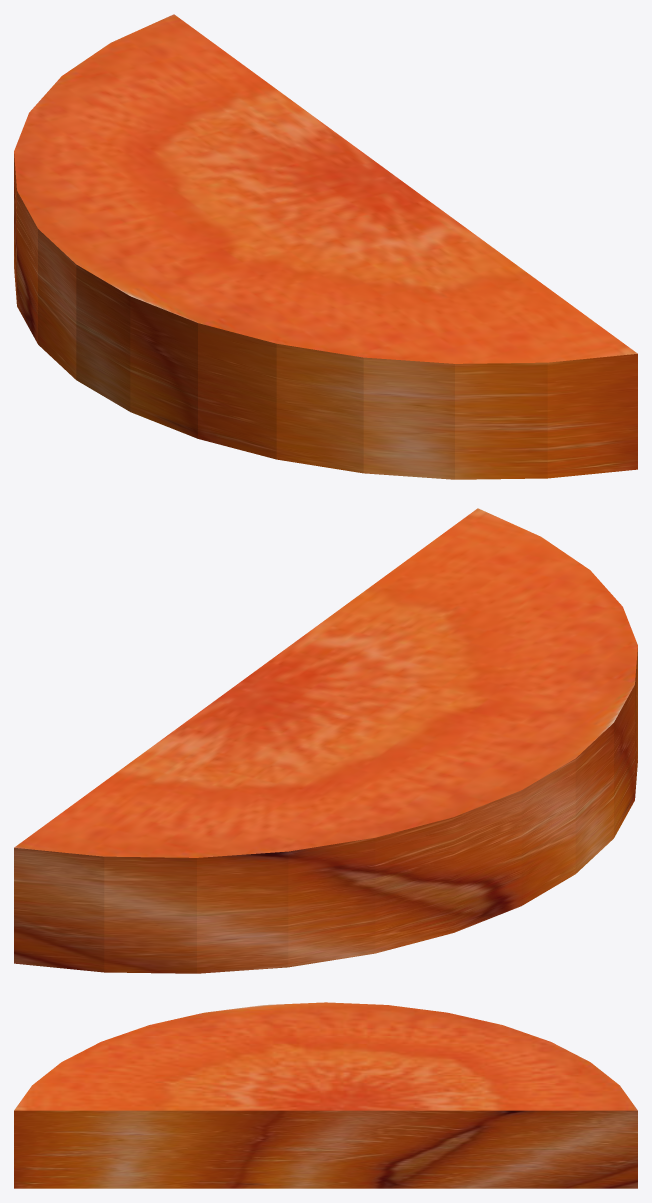
The model's file is ninnginn.obj.
The picture shows the model from 3 angles, top to bottom: view 1: azimuth 30°, elevation 25°; view 2: azimuth 150°, elevation 25°; view 3: azimuth 270°, elevation 25°; orthographic projection. The views are drawn at different scales.
Visible parts, largest first — view 1: 円柱; view 2: 円柱; view 3: 円柱.
Boxes of the visible parts, bbox=[...] form: 円柱: bbox=[14, 14, 637, 479]; 円柱: bbox=[14, 508, 637, 973]; 円柱: bbox=[14, 1002, 637, 1188].
Bounding box in the file's own units: 0.8049 × 0.2703 × 1.96.
Materials: 2 (2 with a texture image).
